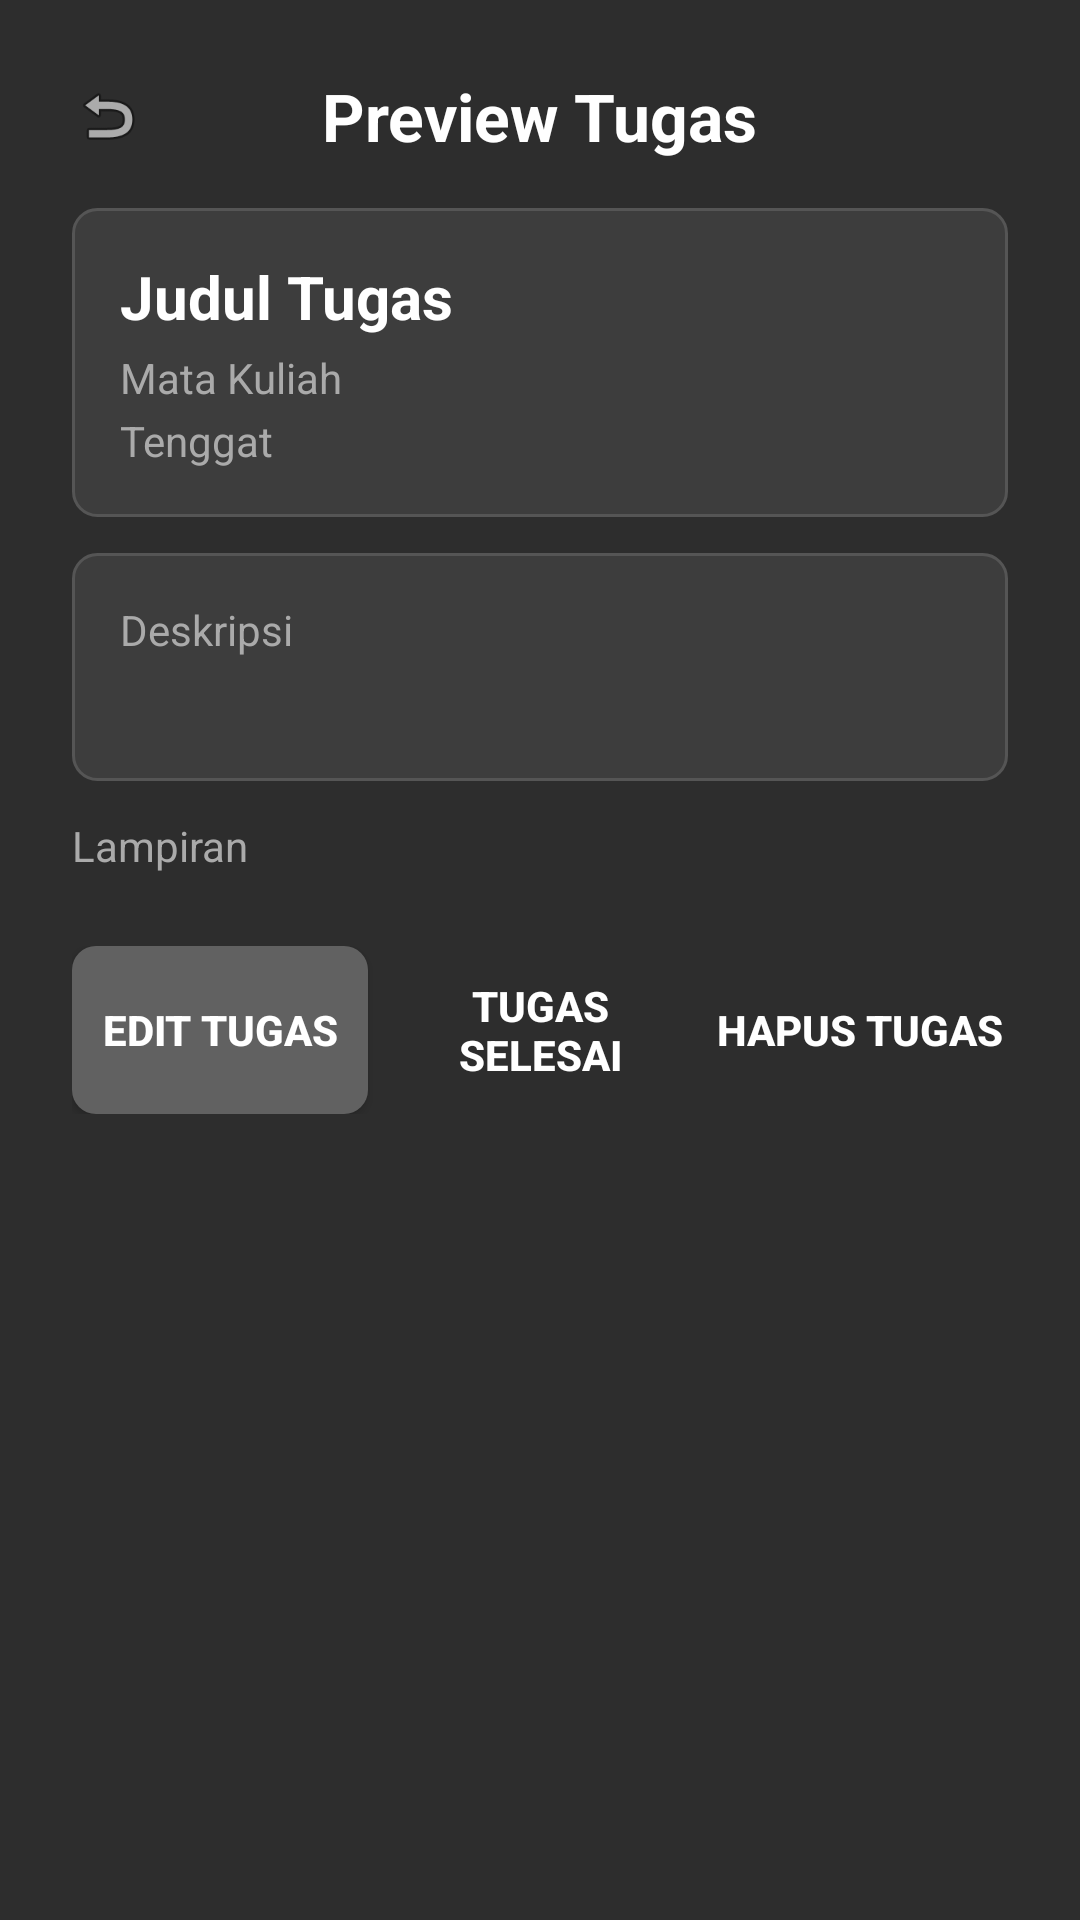

Icons on this 1080 x 1920 Android screen, each with the point to tap as [x,y]:
revert: [109,116]
